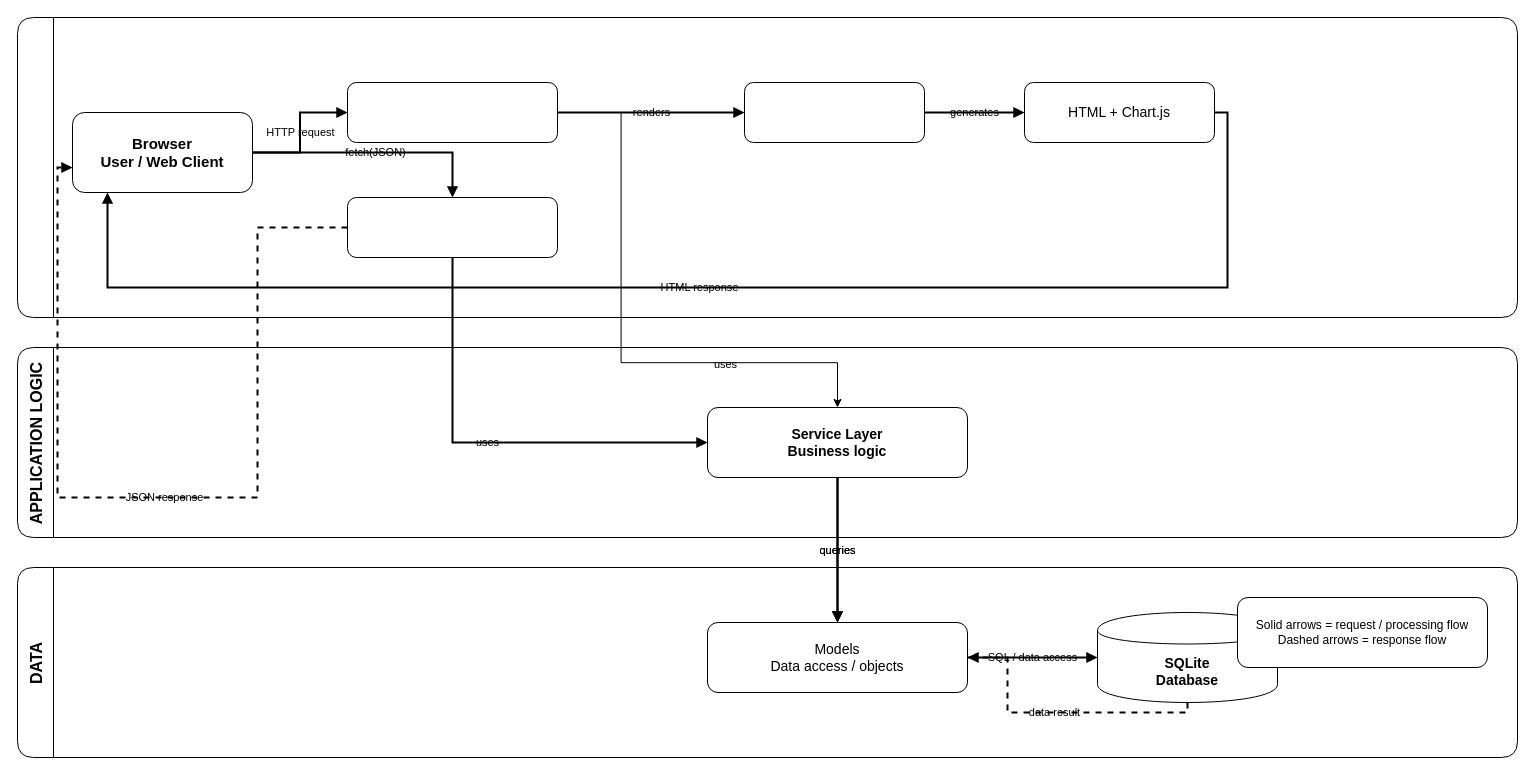
Some shapes in this 1535 by 775 pixel diagram are drawn without their labels. Here are the shapes that lost their labels. From the top down, the box of each, then its label:
(346, 82, 558, 142): Flask Route / Blueprint
(744, 82, 924, 142): Jinja Template
(16, 16, 1518, 318): PRESENTATION
(346, 196, 558, 258): API-style Route / Blueprint
